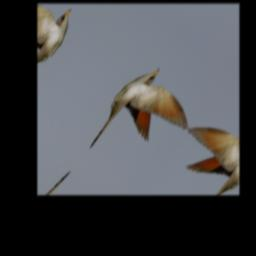Cuckoo: (79, 60, 209, 183)
